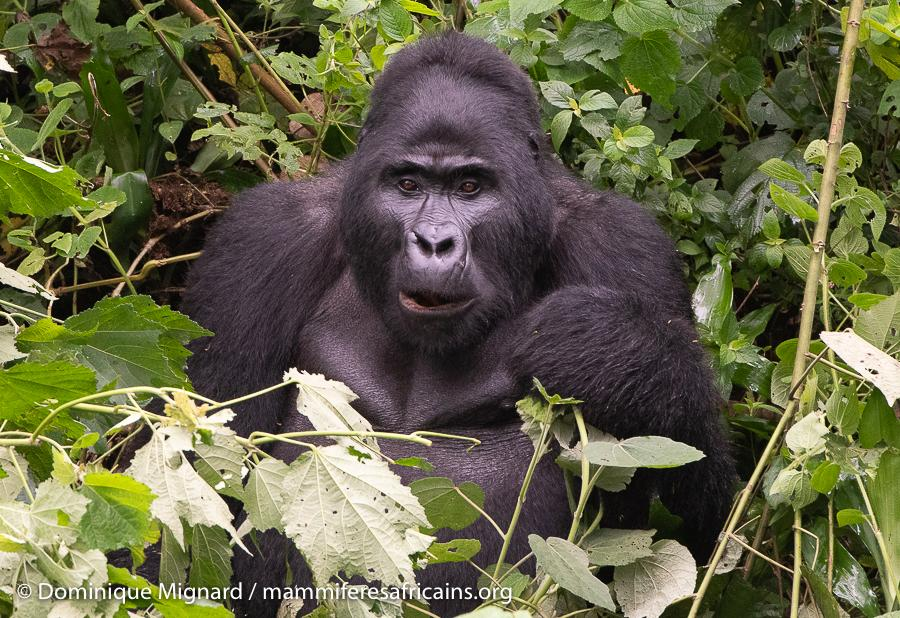goriile_montagne: (143, 0, 728, 603)
